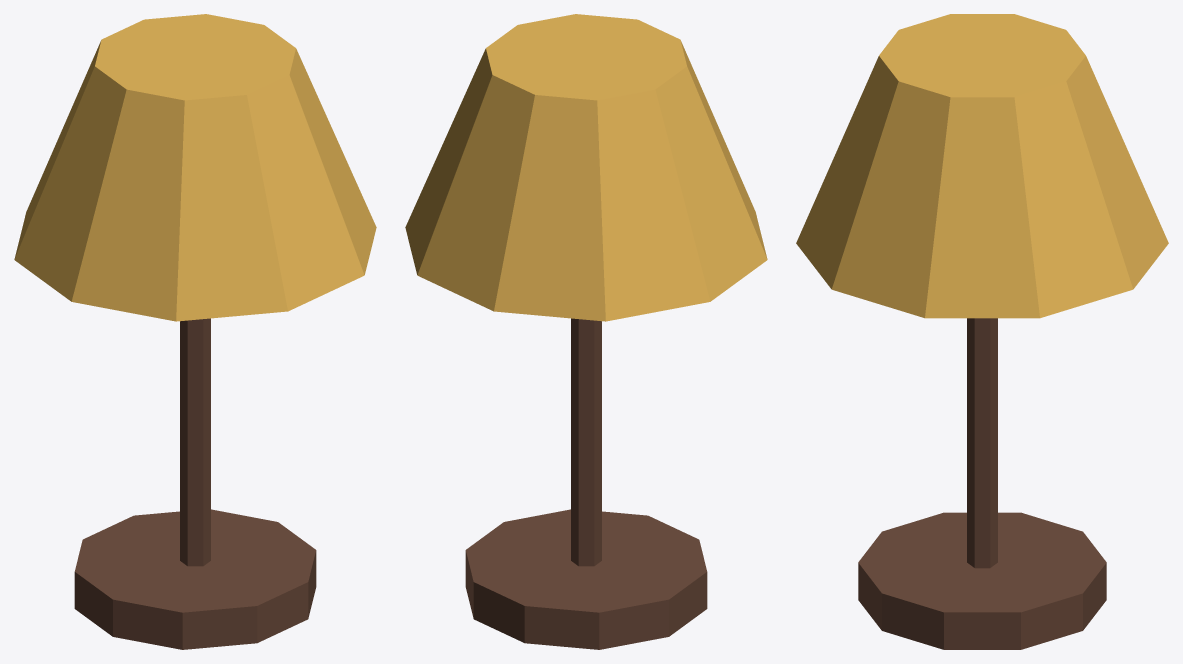
File: lamp.glb
3 views of the same model, side by side, from view 1: azimuth 30°, elevation 25°; view 2: azimuth 150°, elevation 25°; view 3: azimuth 270°, elevation 25° (orthographic).
Parts seen in each view (by area): view 1: lamp; view 2: lamp; view 3: lamp.
Boxes of the visible parts, x1,y1,x2,y2 form: lamp: [14, 14, 376, 649]; lamp: [405, 14, 767, 649]; lamp: [796, 14, 1168, 649].
Size of the model in its own units: 0.3424 by 0.58 by 0.36.
